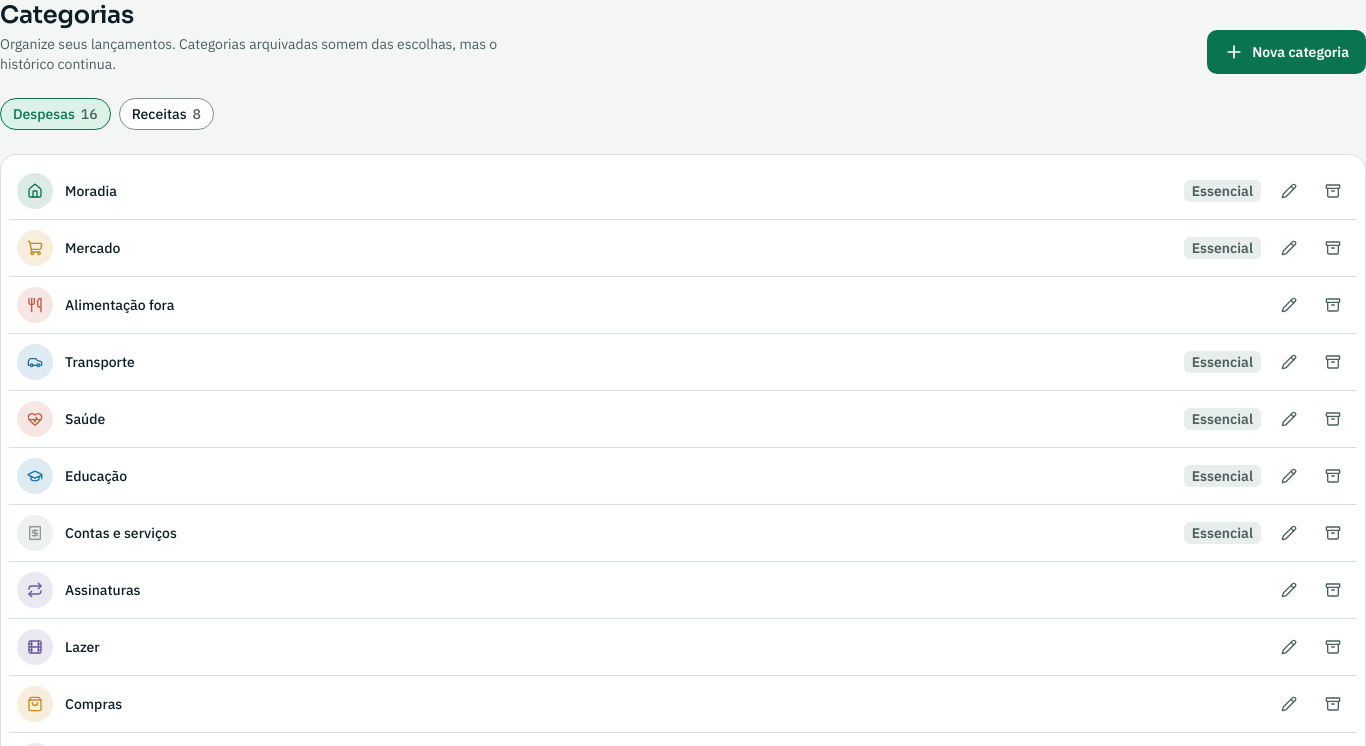
Categorias › valida o nome obrigatório
The image size is (1366, 746).
Expected: the text "Moradia" is shown, [65,182,117,200]
Click the button "Nova categoria" at x=1287, y=52, box [1207,30,1365,74]
(page scrolled)
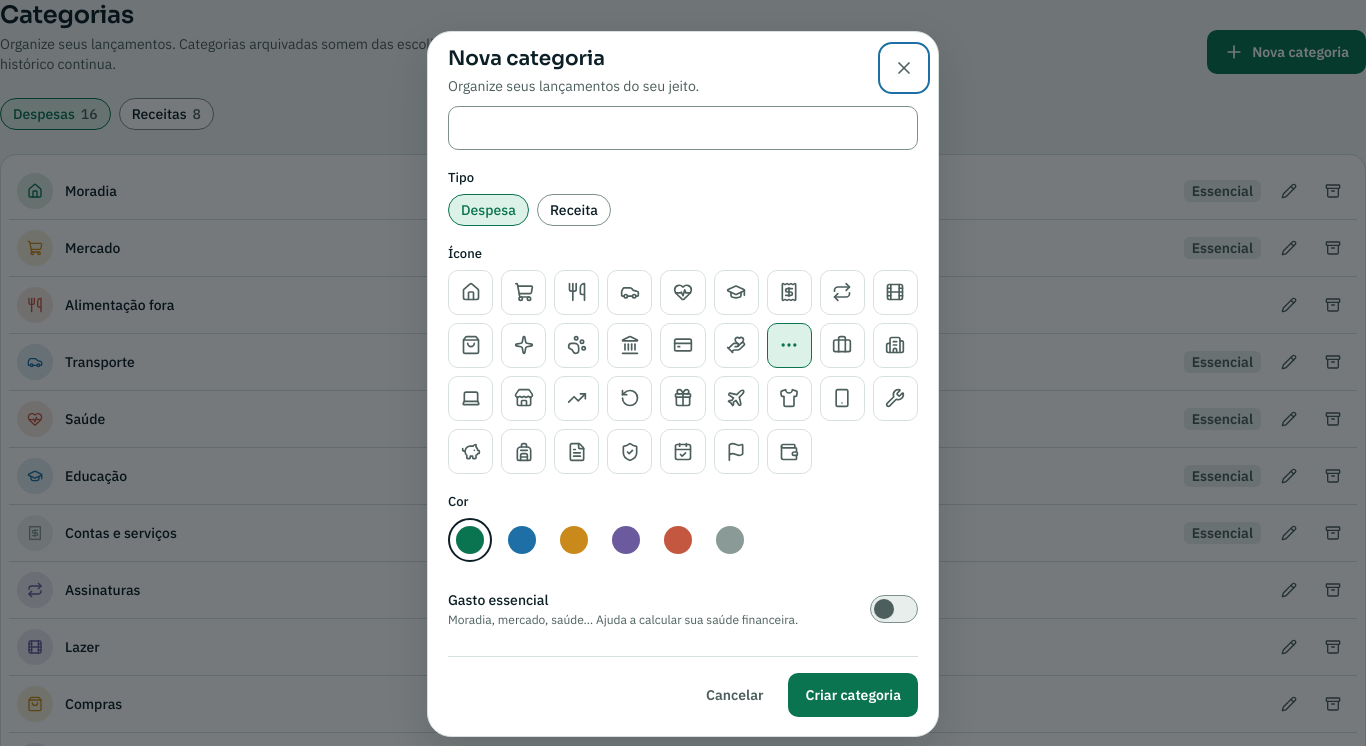
Click the button "Criar categoria" at x=853, y=695, box [788,673,918,717]
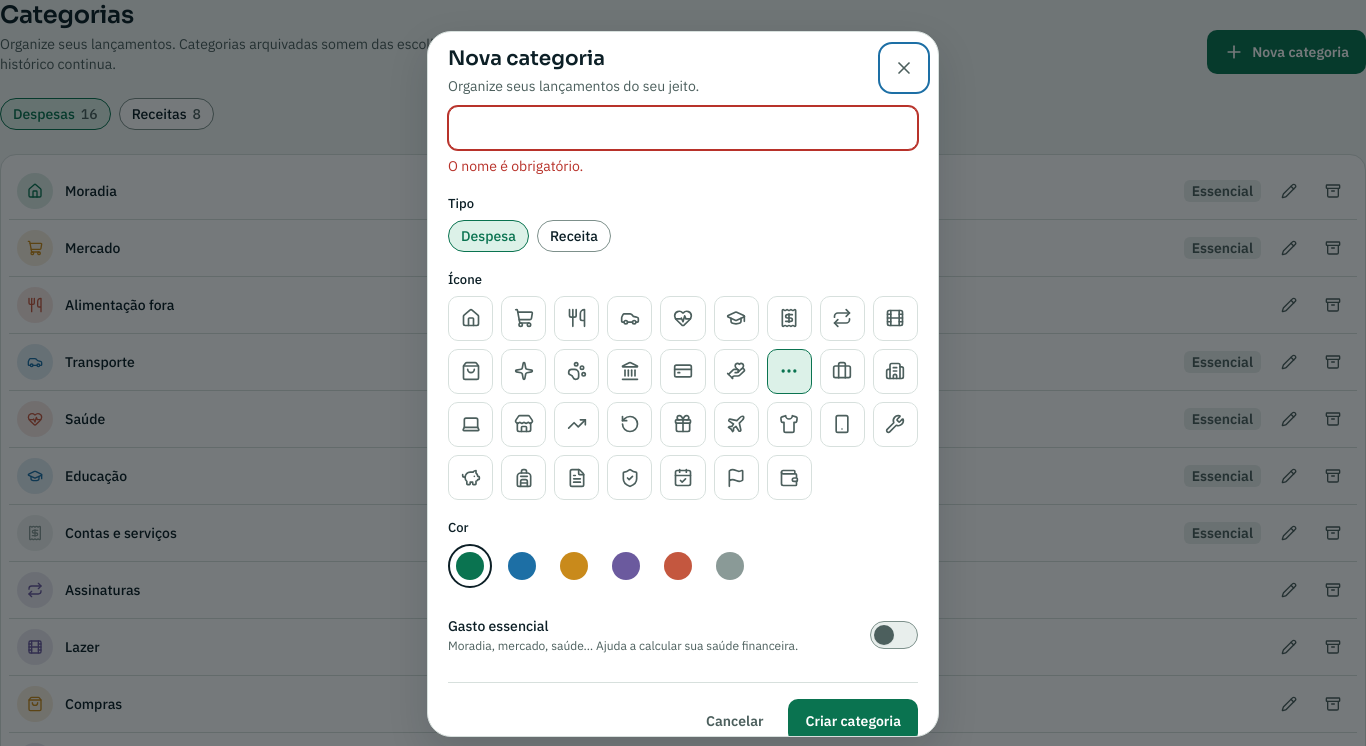
Expected: the text "O nome é obrigatório." is shown, [448,157,583,175]
